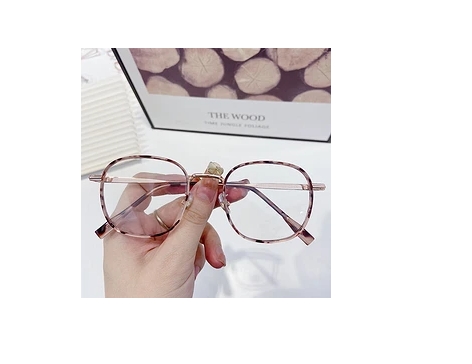glass: (82, 149, 330, 246)
